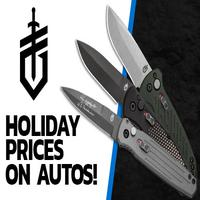knife: (56, 79, 192, 192), (70, 31, 188, 160), (102, 2, 190, 161)
